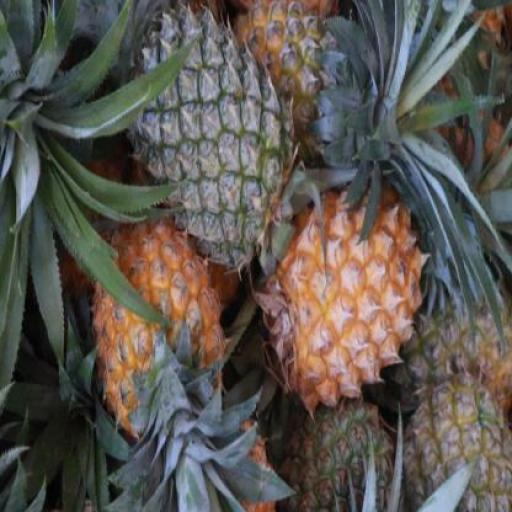Pineapple - v8 v1: (267, 181, 432, 410), (92, 207, 230, 426)
